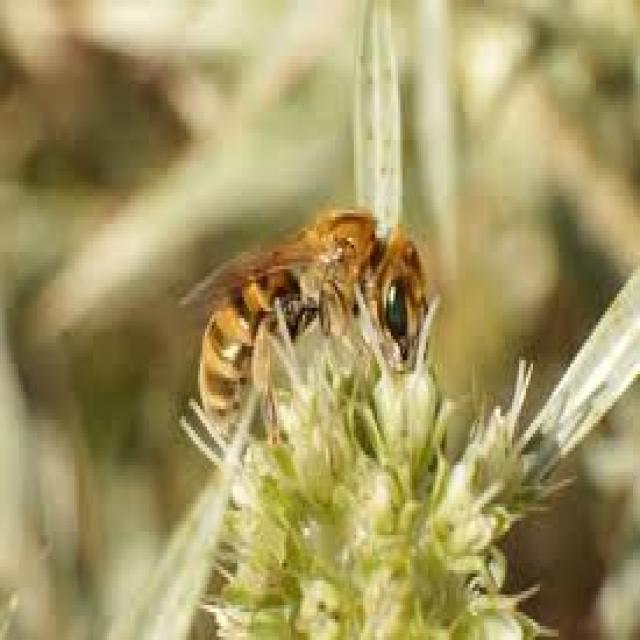Seladonia: (175, 174, 437, 435)
